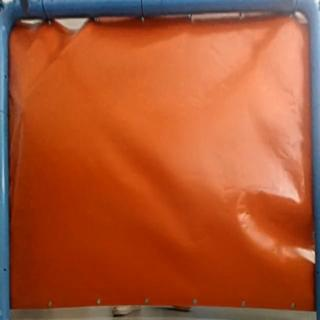Hit-hRxx: (15, 100, 30, 117)
